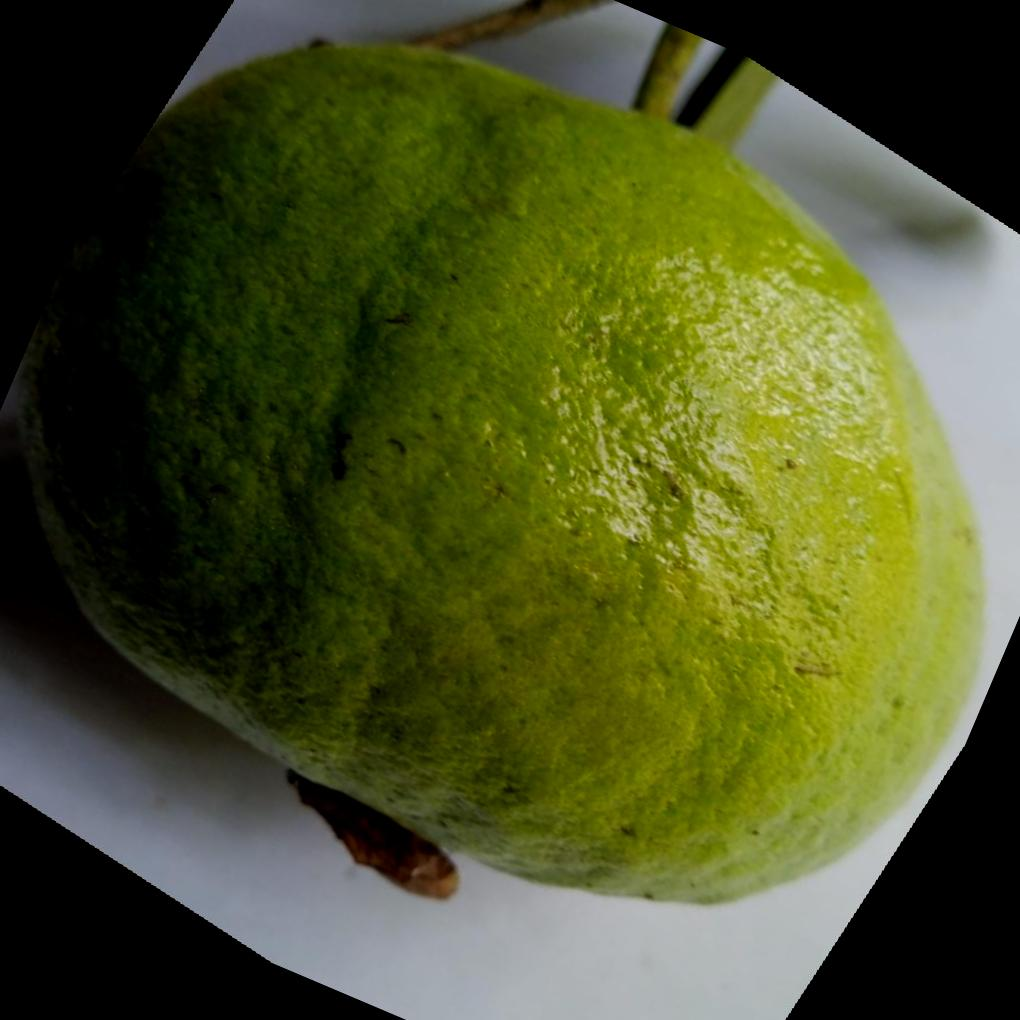FreshGuava: (11, 37, 987, 906)
